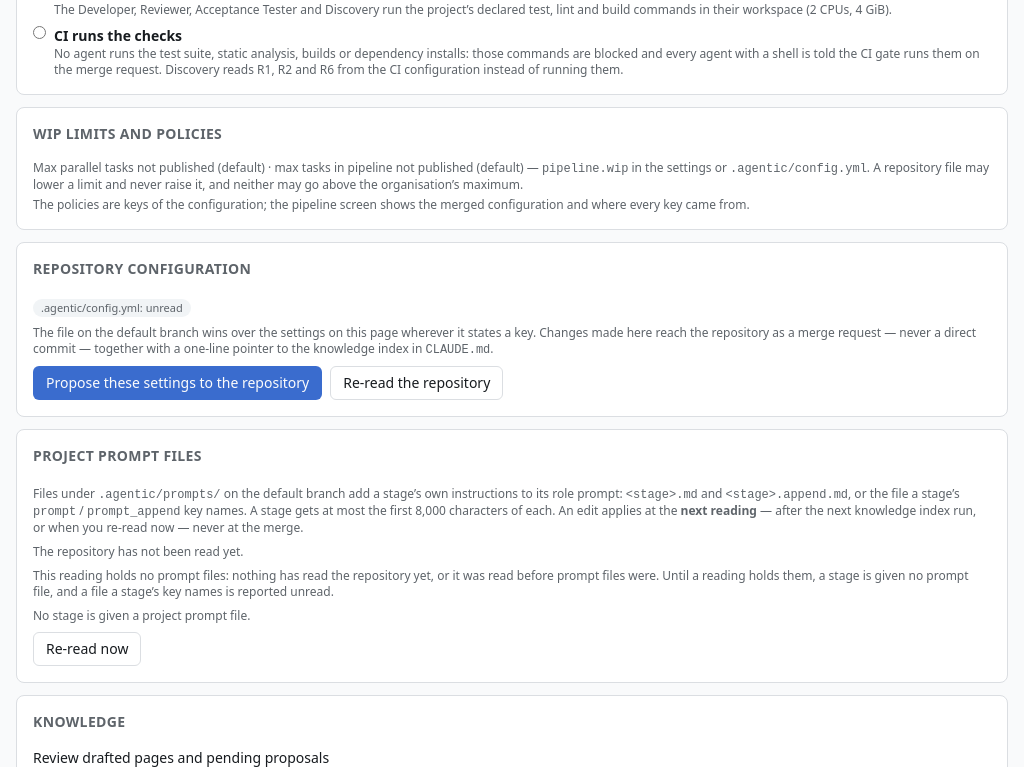
Test: the repository configuration card › shows the key paths when the re-read finds a file that does not parse
(page scrolled)
Click the button "Re-read the repository" at [417, 384], box left=330, top=366, right=503, bottom=400
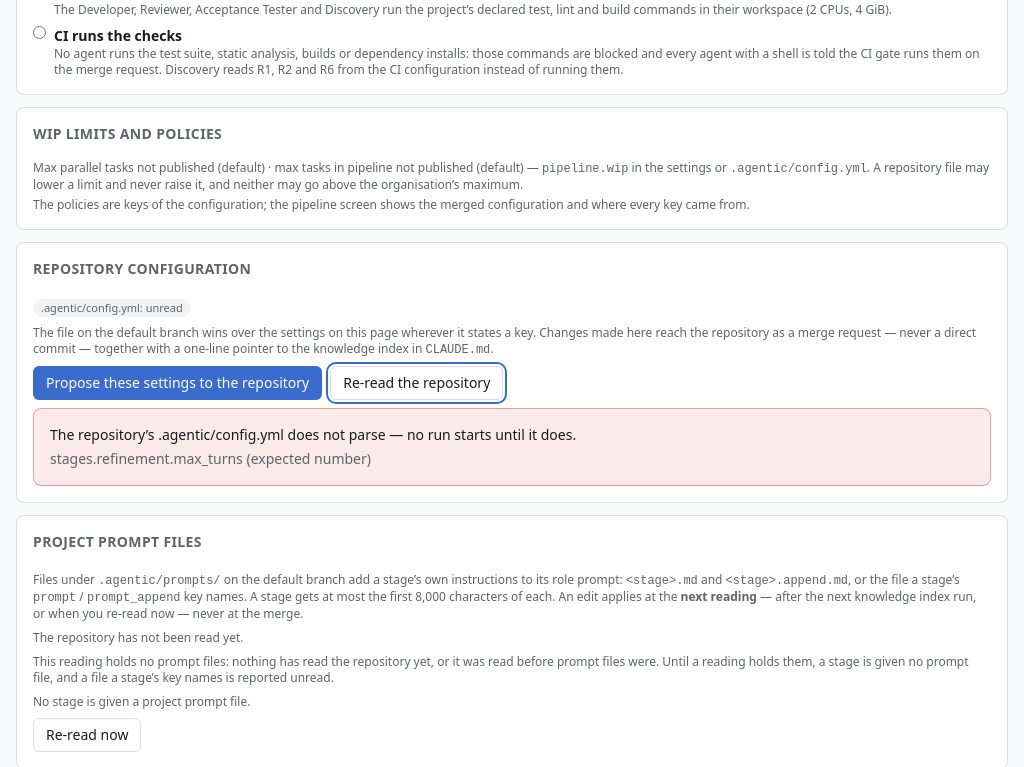
Expected: the text "stages.refinement.max_turns" is shown, left=50, top=450, right=371, bottom=468
Expected: the text "no run starts until it does" is shown, left=50, top=426, right=576, bottom=444
